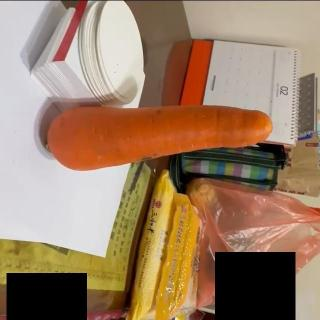carrot: (44, 104, 272, 174)
